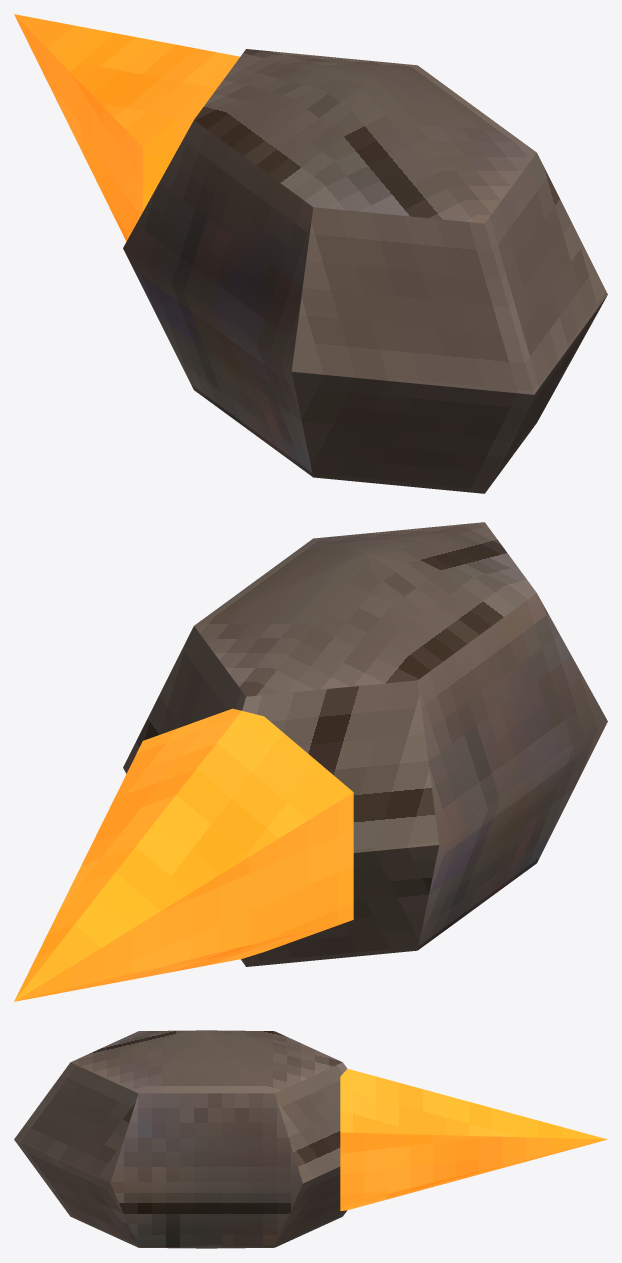
File: fx_shell.glb
The picture shows the model from 3 angles, top to bottom: view 1: azimuth 30°, elevation 25°; view 2: azimuth 150°, elevation 25°; view 3: azimuth 270°, elevation 25°; orthographic projection. The views are drawn at different scales.
Visible parts, largest first — view 1: fx_shell; view 2: fx_shell; view 3: fx_shell.
Part boxes in pixels (x1,y1,x2,y2): fx_shell: (14,14,607,493); fx_shell: (14,522,607,1001); fx_shell: (14,1030,607,1248).
Size of the model in its own units: 0.1559 by 0.18 by 0.444.
Materials: 1 (1 with a texture image).
